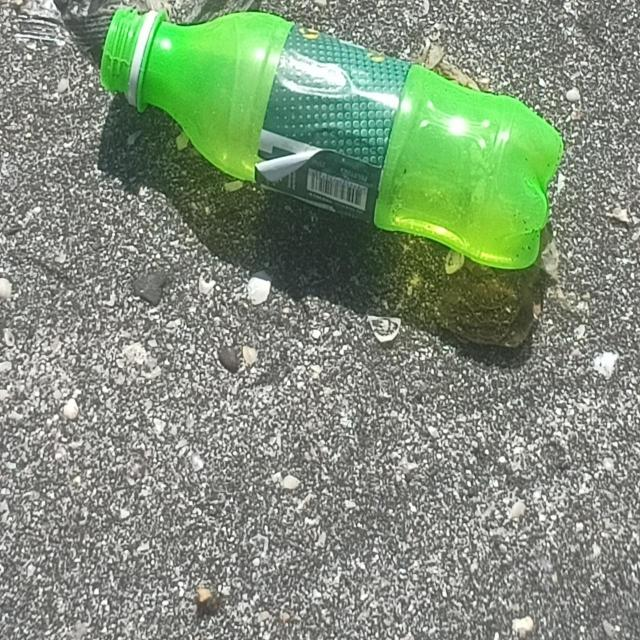plastic_waste: (102, 7, 566, 272)
